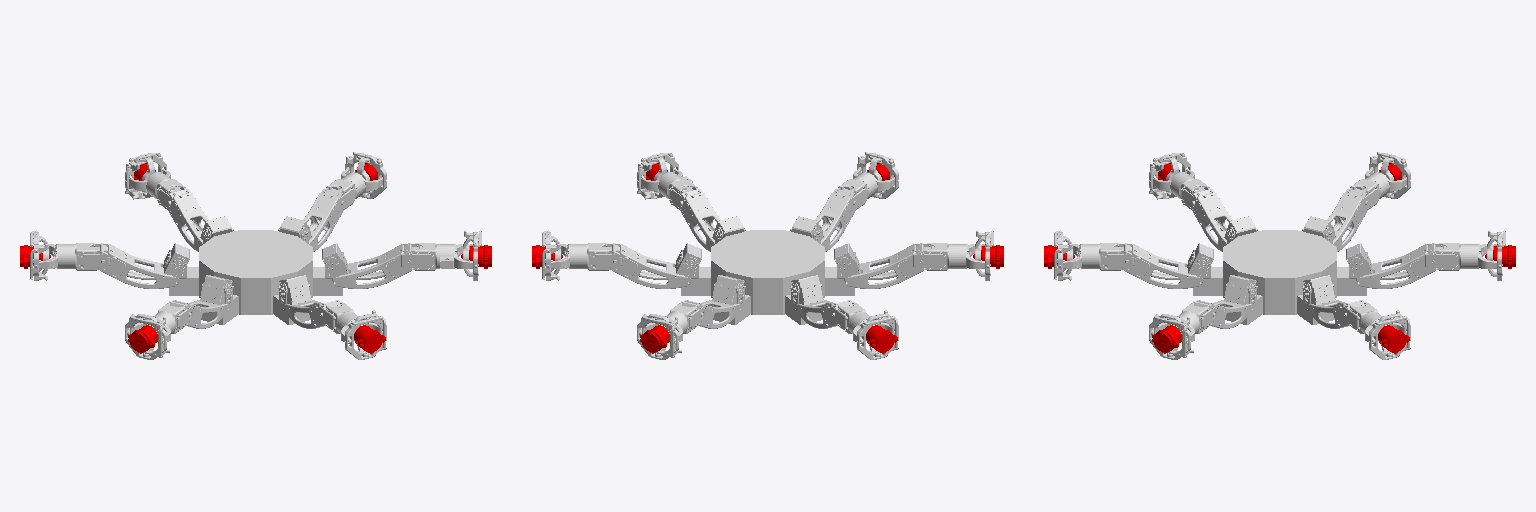
--- Facts derived from the render (not from the file) ---
The picture shows the robot from 3 angles, left to right: view 1: azimuth 30°, elevation 25°; view 2: azimuth 150°, elevation 25°; view 3: azimuth 270°, elevation 25°; orthographic projection.
Robot: magneto — 49 links, 48 joints (36 revolute, 3 continuous, 3 prismatic, 6 fixed); root link world; default pose: every joint at zero.
Links seen in each view (by area): view 1: base_link, CL_femur_link, AR_femur_link, BL_femur_link, AL_femur_link, AR_tibia_link, CL_tibia_link, CR_femur_link, BR_femur_link, AL_tibia_link, BL_tibia_link, BR_tibia_link (+7 smaller); view 2: base_link, AL_femur_link, CR_femur_link, AR_femur_link, BR_femur_link, CR_tibia_link, AL_tibia_link, BL_femur_link, CL_femur_link, AR_tibia_link, BR_tibia_link, CL_tibia_link (+7 smaller); view 3: base_link, BR_femur_link, BL_femur_link, CR_femur_link, CL_femur_link, BL_tibia_link, BR_tibia_link, AR_femur_link, AL_femur_link, CL_tibia_link, CR_tibia_link, AL_tibia_link (+7 smaller).
Boxes of the visible links, <box> form: base_link: <box>169,230,342,324</box>; CL_femur_link: <box>98,243,189,288</box>; AR_femur_link: <box>322,243,413,288</box>; BL_femur_link: <box>167,189,231,251</box>; AL_femur_link: <box>279,189,343,251</box>; AR_tibia_link: <box>401,243,478,270</box>; CL_tibia_link: <box>33,243,109,271</box>; CR_femur_link: <box>169,275,232,328</box>; BR_femur_link: <box>279,275,342,328</box>; AL_tibia_link: <box>322,167,382,211</box>; BL_tibia_link: <box>129,169,189,210</box>; BR_tibia_link: <box>319,300,382,343</box>; base_link: <box>681,230,854,324</box>; AL_femur_link: <box>610,243,701,288</box>; CR_femur_link: <box>834,243,925,288</box>; AR_femur_link: <box>679,189,744,251</box>; BR_femur_link: <box>792,189,855,251</box>; CR_tibia_link: <box>913,243,990,270</box>; AL_tibia_link: <box>545,243,621,271</box>; BL_femur_link: <box>681,275,744,328</box>; CL_femur_link: <box>791,275,854,328</box>; AR_tibia_link: <box>641,169,701,210</box>; BR_tibia_link: <box>834,167,894,211</box>; CL_tibia_link: <box>831,300,894,343</box>; base_link: <box>1193,230,1366,324</box>; BR_femur_link: <box>1122,243,1213,288</box>; BL_femur_link: <box>1346,243,1437,288</box>; CR_femur_link: <box>1191,189,1255,251</box>; CL_femur_link: <box>1304,189,1367,251</box>; BL_tibia_link: <box>1425,243,1502,270</box>; BR_tibia_link: <box>1057,243,1133,271</box>; AR_femur_link: <box>1193,275,1256,328</box>; AL_femur_link: <box>1303,275,1366,328</box>; CL_tibia_link: <box>1346,167,1406,211</box>; CR_tibia_link: <box>1153,169,1213,210</box>; AL_tibia_link: <box>1343,300,1406,343</box>.
Size in the robot's own frame: 0.8302 by 0.926 by 0.122 metres.
Meshes: 8 distinct files referenced, 37 mesh visuals loaded (8 binary STL).

The robot description file, URDF, robot "magneto":
<?xml version="1.0" encoding="utf-8"?>
<!-- =================================================================================== -->
<!-- |    This document was autogenerated by xacro from magneto_2_bones.xacro          | -->
<!-- |    EDITING THIS FILE BY HAND IS NOT RECOMMENDED                                 | -->
<!-- =================================================================================== -->
<robot name="magneto">
<!-- Setup material colours for viewing in RViz -->
<material name="white">
  <color rgba="1 1 1 1"/>
</material>
<material name="blue">
  <color rgba="0 0 1 1"/>
</material>
<material name="green">
  <color rgba="0 1 0 1"/>
</material>
<material name="red">
  <color rgba="1 0 0 1"/>
</material>
<material name="black">
  <color rgba="0 0 0 0.9"/>
</material>
<material name="darkgrey">
  <color rgba="0.9 0.9 0.9 1"/>
</material>
<material name="midgrey">
  <color rgba="0.9 0.9 0.9 1"/>
</material>
<!-- =================================================================================== -->
<!-- |    virtual Joint (6 DoFs)                                                       | -->
<!-- =================================================================================== -->
<link name="world">
    <inertial>
      <origin xyz="0 0 0" rpy="0 0 0" />
      <mass value="0.00000001" />
      <inertia ixx="0.00000001" ixy="0.00000001" ixz="0.00000001" iyy="0.00000001" iyz="0.00000001" izz="0.00000001" />
    </inertial>
  </link>

  <link name="basePosX">
    <inertial>
      <origin xyz="0 0 0" rpy="0 0 0" />
      <mass value="0.00000001" />
      <inertia ixx="0.00000001" ixy="0.00000001" ixz="0.00000001" iyy="0.00000001" iyz="0.00000001" izz="0.00000001" />
    </inertial>
  </link>
  <joint name="basePosX" type="prismatic">
    <origin xyz="0 0 0" rpy="0 0 0" />
    <parent link="world" />
    <child link="basePosX" />
    <axis xyz="1 0 0" />
    <limit effort="200.0" velocity="100.0" lower="-200." upper="200." />
  </joint>

  <link name="basePosY">
    <inertial>
      <origin xyz="0 0 0" rpy="0 0 0" />
      <mass value="0.00000001" />
      <inertia ixx="0.00000001" ixy="0.00000001" ixz="0.00000001" iyy="0.00000001" iyz="0.00000001" izz="0.00000001" />
    </inertial>
  </link>
  <joint name="basePosY" type="prismatic">
    <origin xyz="0 0 0" rpy="0 0 0" />
    <parent link="basePosX" />
    <child link="basePosY" />
    <axis xyz="0 1 0" />
    <limit effort="200.0" velocity="100.0" lower="-200." upper="200." />
  </joint>

  <link name="basePosZ">
    <inertial>
      <origin xyz="0 0 0" rpy="0 0 0" />
      <mass value="0.00000001" />
      <inertia ixx="0.00000001" ixy="0.00000001" ixz="0.00000001" iyy="0.00000001" iyz="0.00000001" izz="0.00000001" />
    </inertial>
  </link>
  <joint name="basePosZ" type="prismatic">
    <origin xyz="0 0 0" rpy="0 0 0" />
    <parent link="basePosY" />
    <child link="basePosZ" />
    <axis xyz="0 0 1" />
    <limit effort="200.0" velocity="100.0" lower="-200." upper="200." />
  </joint>

  <link name="baseRotZ">
    <inertial>
      <origin xyz="0 0 0" rpy="0 0 0" />
      <mass value="0.00000001" />
      <inertia ixx="0.00000001" ixy="0.00000001" ixz="0.00000001" iyy="0.00000001" iyz="0.00000001" izz="0.00000001" />
    </inertial>
  </link>
  <joint name="baseRotZ" type="continuous">
    <origin xyz="0 0 0" rpy="0 0 0" />
    <parent link="basePosZ" />
    <child link="baseRotZ" />
    <axis xyz="0 0 1" />
  </joint>

  <link name="baseRotY">
    <inertial>
      <origin xyz="0 0 0" rpy="0 0 0" />
      <mass value="0.00000001" />
      <inertia ixx="0.00000001" ixy="0.00000001" ixz="0.00000001" iyy="0.00000001" iyz="0.00000001" izz="0.00000001" />
    </inertial>
  </link>
  <joint name="baseRotY" type="continuous">
    <origin xyz="0 0 0" rpy="0 0 0" />
    <parent link="baseRotZ" />
    <child link="baseRotY" />
    <axis xyz="0 1 0" />
  </joint>
  <!-- =================================================================================== -->
  <!-- =================================================================================== -->
  <link name="base_link">
    <inertial>
      <origin rpy="0 0 0" xyz="-0.2696E-03 0 33.3181E-03"/>
      <mass value="1.44521"/>
      <inertia ixx="0.0083421056972" ixy="-4.932e-08" ixz="-2.47500871e-05" iyy="0.0136724752281" iyz="2.37e-11" izz="0.0180888568473"/>
    </inertial>
    <visual>
      <geometry>
        <mesh filename="meshes//hexa_magneto_base_link.STL"/>
      </geometry>
      <origin rpy="0 0 0" xyz="0 0 0.015"/>
      <material name="midgrey"/>
    </visual>
    <collision>
      <geometry>
        <mesh filename="meshes//hexa_magneto_base_link.STL"/>
      </geometry>
      <origin rpy="0 0 0" xyz="0 0 0.015"/>
    </collision>
  </link>
    <joint name="_base_joint" type="continuous">
    <parent link="baseRotY"/>
    <child link="base_link"/>
    <origin rpy="0 0 0" xyz="0 0 0"/>
    <axis xyz="1 0 0" />
  </joint>
  <!--  (1) AR ================================================================================= -->
  <link name="AR_coxa_link">
    <inertial>
      <origin rpy="0.0            0.0            0.0" xyz="0.0            0.0            0.0"/>
      <mass value="0.05629"/>
      <inertia ixx="6.383417e-05" ixy="0.0" ixz="0.0" iyy="2.843519e-05" iyz="0.0" izz="4.305331e-05"/>
    </inertial>
    <visual>
      <geometry>
        <mesh filename="meshes//coxa_link.STL"/>
      </geometry>
      <origin rpy="0.0          0.0          0.0" xyz="0.0          0.0          0.0"/>
      <material name="darkgrey"/>
    </visual>
    <collision>
      <geometry>
        <mesh filename="meshes//coxa_link_collision.STL"/>
      </geometry>
      <origin rpy="0.0          0.0          0.0" xyz="0.0            0.0            0.0"/>
    </collision>
  </link>
  <joint name="AR_coxa_joint" type="revolute">
    <limit effort="100.0" lower="-2.355" upper="2.355" velocity="5"/>
    <child link="AR_coxa_link"/>
    <parent link="base_link"/>
    <axis xyz="0 1 0"/>
    <origin rpy="1.5708 0 -0.5236" xyz="0.1299 -0.075 0.05"/>
  </joint>
  <link name="AR_femur_link">
    <inertial>
      <origin rpy="0.0            0.0            0.0" xyz="0.0331            0.0            0.00057"/>
      <mass value="0.25695"/>
      <inertia ixx="0.00023448195" ixy="8.961282e-05" ixz="2.299328e-05" iyy="0.00105768013" iyz="-8.2212e-07" izz="0.00113717868"/>
    </inertial>
    <visual>
      <geometry>
        <mesh filename="meshes//femur_link.STL"/>
      </geometry>
      <origin rpy="3.14159          0.0          0.0" xyz="0.0          0.0          0.0"/>
      <material name="darkgrey"/>
    </visual>
    <collision>
      <geometry>
        <mesh filename="meshes//femur_link_collision.STL"/>
      </geometry>
      <origin rpy="-1.5708            0.0            0.0" xyz="0.0            0.0            0.0"/>
    </collision>
  </link>
  <joint name="AR_femur_joint" type="revolute">
    <limit effort="100.0" lower="-1.571" upper="2.355" velocity="5"/>
    <child link="AR_femur_link"/>
    <parent link="AR_coxa_link"/>
    <axis xyz="0 0 1"/>
    <origin rpy="0 0 0" xyz="0 0.0393 0"/>
  </joint>
  <link name="AR_tibia_link">
    <inertial>
      <origin rpy="0.0            0.0            0.0" xyz="0.04813            0.0            0.00063"/>
      <mass value="0.57311"/>
      <inertia ixx="0.00012691396" ixy="-2.13598e-06" ixz="1.580716e-05" iyy="0.00135132424" iyz="4.859e-08" izz="0.00131598196"/>
    </inertial>
    <visual>
      <geometry>
        <mesh filename="meshes//tibia_link_ft.STL"/>
      </geometry>
      <origin rpy="0.0          0.0          0.0" xyz="0.0          0.0          0.0"/>
      <material name="midgrey"/>
    </visual>
    <collision>
      <geometry>
        <mesh filename="meshes//tibia_link_ft.STL"/>
      </geometry>
      <origin rpy="0.0            0.0            0.0" xyz="0.0            0.0            0.0"/>
    </collision>
  </link>
  <joint name="AR_tibia_joint" type="revolute">
    <limit effort="100.0" lower="-2.355" upper="0.001" velocity="5"/>
    <child link="AR_tibia_link"/>
    <parent link="AR_femur_link"/>
    <axis xyz="0 0 1"/>
    <origin rpy="0.0 0 0.0" xyz="0.15 0 0"/>
  </joint>
  <link name="AR_foot_link_1">
    <inertial>
      <origin rpy="0 0 0" xyz="0.02E-03 2.88E-03 -4.39E-03"/>
      <mass value="0.03591"/>
      <inertia ixx="60131.00E-09" ixy="610.47E-09" ixz="387.97E-09" iyy="31108.13E-09" iyz="346.50E-09" izz="31112.38E-09"/>
    </inertial>
    <visual>
      <geometry>
        <mesh filename="meshes//foot_link_1.STL"/>
      </geometry>
      <origin rpy="0 0 0" xyz="0 0 0"/>
      <material name="midgrey"/>
    </visual>
    <collision>
      <geometry>
        <mesh filename="meshes//foot_link_1_collision.STL"/>
      </geometry>
      <origin rpy="0 0 0" xyz="0 0 0"/>
    </collision>
  </link>
  <joint name="AR_foot_joint_1" type="revolute">
    <parent link="AR_tibia_link"/>
    <axis xyz="0 0 1"/>
    <origin rpy="0 0 0" xyz="0.132 0 0"/>
    <limit effort="100.0" lower="-0.523599" upper="0.523599" velocity="5"/>
    <child link="AR_foot_link_1"/>
    <dynamics damping="0.2" friction="0.0"/>
  </joint>
  <link name="AR_foot_link_2">
    <inertial>
      <origin rpy="0 0 0" xyz="0.02E-03 2.88E-03 -4.39E-03"/>
      <mass value="0.02961"/>
      <inertia ixx="8786.61E-09" ixy="34.74E-09" ixz="7.47E-09" iyy="10893.41E-09" iyz="-95.83E-09" izz="17608.23E-09"/>
    </inertial>
    <visual>
      <geometry>
        <mesh filename="meshes//foot_link_2.STL"/>
      </geometry>
      <origin rpy="0 0 0" xyz="0 0 0"/>
      <material name="midgrey"/>
    </visual>
    <collision>
      <geometry>
        <mesh filename="meshes//foot_link_2_collision.STL"/>
      </geometry>
      <origin rpy="0 0 0" xyz="0 0 0"/>
    </collision>
  </link>
  <joint name="AR_foot_joint_2" type="revolute">
    <axis xyz="0 1 0"/>
    <limit effort="100.0" lower="-0.418879" upper="0.418879" velocity="5"/>
    <parent link="AR_foot_link_1"/>
    <child link="AR_foot_link_2"/>
    <origin rpy="0 0 0" xyz="0 0 0"/>
    <dynamics damping="0.2" friction="0.0"/>
  </joint>
  <link name="AR_foot_link_3">
    <inertial>
      <origin rpy="0 0 0" xyz="0.02E-03 2.88E-03 -4.39E-03"/>
      <mass value="0.32158"/>
      <inertia ixx="49836.99E-09" ixy="144.66E-09" ixz="-4031.72E-09" iyy="81967.91E-09" iyz="-678.12E-09" izz="69129.32E-09"/>
    </inertial>
    <visual>
      <geometry>
        <mesh filename="meshes//foot_link_3.STL"/>
      </geometry>
      <origin rpy="0 0 0" xyz="0 0 0"/>
      <material name="red"/>
    </visual>
    <collision>
      <geometry>
        <mesh filename="meshes//foot_link_3_collision.STL"/>
      </geometry>
      <origin rpy="0 0 0" xyz="0 0 0"/>
    </collision>
  </link>
  <joint name="AR_foot_joint_3" type="revolute">
    <axis xyz="1 0 0"/>
    <limit effort="100.0" lower="-2.07694" upper="2.07694" velocity="5"/>
    <parent link="AR_foot_link_2"/>
    <child link="AR_foot_link_3"/>
    <origin rpy="0 0 0" xyz="0 0 0"/>
    <dynamics damping="0.2" friction="0.0"/>
  </joint>
  <link name="AR_foot_link">
    <inertial>
      <origin rpy="0 0 0" xyz="0 0 0" />
      <mass value="0.000001" />
      <inertia ixx="1E-9" ixy="1E-9" ixz="1E-9" iyy="1E-9" iyz="1E-9" izz="1E-9" />
    </inertial>
  </link>
  <joint name="AR_foot_joint" type="fixed">
    <parent link="AR_foot_link_3"/>
    <child link="AR_foot_link"/>
    <origin rpy="0 -1.5708 0" xyz="0.031 0 0"/>
  </joint>
  <!--  (2) BR ================================================================================= -->
  <link name="BR_coxa_link">
    <inertial>
      <origin rpy="0.0            0.0            0.0" xyz="0.0            0.0            0.0"/>
      <mass value="0.05629"/>
      <inertia ixx="6.383417e-05" ixy="0.0" ixz="0.0" iyy="2.843519e-05" iyz="0.0" izz="4.305331e-05"/>
    </inertial>
    <visual>
      <geometry>
        <mesh filename="meshes//coxa_link.STL"/>
      </geometry>
      <origin rpy="0.0          0.0          0.0" xyz="0.0          0.0          0.0"/>
      <material name="darkgrey"/>
    </visual>
    <collision>
      <geometry>
        <mesh filename="meshes//coxa_link_collision.STL"/>
      </geometry>
      <origin rpy="0.0          0.0          0.0" xyz="0.0            0.0            0.0"/>
    </collision>
  </link>
  <joint name="BR_coxa_joint" type="revolute">
    <limit effort="100.0" lower="-2.355" upper="2.355" velocity="5"/>
    <child link="BR_coxa_link"/>
    <parent link="base_link"/>
    <axis xyz="0 1 0"/>
    <origin rpy="1.5708 0 -1.5708" xyz="-0.0 -0.15 0.05"/>
  </joint>
  <link name="BR_femur_link">
    <inertial>
      <origin rpy="0.0            0.0            0.0" xyz="0.0331            0.0            0.00057"/>
      <mass value="0.25695"/>
      <inertia ixx="0.00023448195" ixy="8.961282e-05" ixz="2.299328e-05" iyy="0.00105768013" iyz="-8.2212e-07" izz="0.00113717868"/>
    </inertial>
    <visual>
      <geometry>
        <mesh filename="meshes//femur_link.STL"/>
      </geometry>
      <origin rpy="3.14159          0.0          0.0" xyz="0.0          0.0          0.0"/>
      <material name="darkgrey"/>
    </visual>
    <collision>
      <geometry>
        <mesh filename="meshes//femur_link_collision.STL"/>
      </geometry>
      <origin rpy="-1.5708            0.0            0.0" xyz="0.0            0.0            0.0"/>
    </collision>
  </link>
  <joint name="BR_femur_joint" type="revolute">
    <limit effort="100.0" lower="-1.571" upper="2.355" velocity="5"/>
    <child link="BR_femur_link"/>
    <parent link="BR_coxa_link"/>
    <axis xyz="0 0 1"/>
    <origin rpy="0 0 0" xyz="0 0.0393 0"/>
  </joint>
  <link name="BR_tibia_link">
    <inertial>
      <origin rpy="0.0            0.0            0.0" xyz="0.0363            0.0            -0.00011"/>
      <mass value="0.45311"/>
      <inertia ixx="8.692014e-05" ixy="-1.44653e-06" ixz="-3.73592e-06" iyy="0.00067791971" iyz="1.1736e-07" izz="0.00064913972"/>
    </inertial>
    <visual>
      <geometry>
        <mesh filename="meshes//tibia_link_no_ft.STL"/>
      </geometry>
      <origin rpy="0.0          0.0          0.0" xyz="0.0          0.0          0.0"/>
      <material name="midgrey"/>
    </visual>
    <collision>
      <geometry>
        <mesh filename="meshes//tibia_link_no_ft.STL"/>
      </geometry>
      <origin rpy="0.0            0.0            0.0" xyz="0.0            0.0            0.0"/>
    </collision>
  </link>
  <joint name="BR_tibia_joint" type="revolute">
    <limit effort="100.0" lower="-2.355" upper="0.001" velocity="5"/>
    <child link="BR_tibia_link"/>
    <parent link="BR_femur_link"/>
    <axis xyz="0 0 1"/>
    <origin rpy="0.0 0 0.0" xyz="0.15 0 0"/>
  </joint>
  <link name="BR_foot_link_1">
    <inertial>
      <origin rpy="0 0 0" xyz="0.02E-03 2.88E-03 -4.39E-03"/>
      <mass value="0.03591"/>
      <inertia ixx="60131.00E-09" ixy="610.47E-09" ixz="387.97E-09" iyy="31108.13E-09" iyz="346.50E-09" izz="31112.38E-09"/>
    </inertial>
    <visual>
      <geometry>
        <mesh filename="meshes//foot_link_1.STL"/>
      </geometry>
      <origin rpy="0 0 0" xyz="0 0 0"/>
      <material name="midgrey"/>
    </visual>
    <collision>
      <geometry>
        <mesh filename="meshes//foot_link_1_collision.STL"/>
      </geometry>
      <origin rpy="0 0 0" xyz="0 0 0"/>
    </collision>
  </link>
  <joint name="BR_foot_joint_1" type="revolute">
    <parent link="BR_tibia_link"/>
    <axis xyz="0 0 1"/>
    <origin rpy="0 0 0" xyz="0.132 0 0"/>
    <limit effort="100.0" lower="-0.523599" upper="0.523599" velocity="5"/>
    <child link="BR_foot_link_1"/>
    <dynamics damping="0.2" friction="0.0"/>
  </joint>
  <link name="BR_foot_link_2">
    <inertial>
      <origin rpy="0 0 0" xyz="0.02E-03 2.88E-03 -4.39E-03"/>
      <mass value="0.02961"/>
      <inertia ixx="8786.61E-09" ixy="34.74E-09" ixz="7.47E-09" iyy="10893.41E-09" iyz="-95.83E-09" izz="17608.23E-09"/>
    </inertial>
    <visual>
      <geometry>
        <mesh filename="meshes//foot_link_2.STL"/>
      </geometry>
      <origin rpy="0 0 0" xyz="0 0 0"/>
      <material name="midgrey"/>
    </visual>
    <collision>
      <geometry>
        <mesh filename="meshes//foot_link_2_collision.STL"/>
      </geometry>
      <origin rpy="0 0 0" xyz="0 0 0"/>
    </collision>
  </link>
  <joint name="BR_foot_joint_2" type="revolute">
    <axis xyz="0 1 0"/>
    <limit effort="100.0" lower="-0.418879" upper="0.418879" velocity="5"/>
    <parent link="BR_foot_link_1"/>
    <child link="BR_foot_link_2"/>
    <origin rpy="0 0 0" xyz="0 0 0"/>
    <dynamics damping="0.2" friction="0.0"/>
  </joint>
  <link name="BR_foot_link_3">
    <inertial>
      <origin rpy="0 0 0" xyz="0.02E-03 2.88E-03 -4.39E-03"/>
      <mass value="0.32158"/>
      <inertia ixx="49836.99E-09" ixy="144.66E-09" ixz="-4031.72E-09" iyy="81967.91E-09" iyz="-678.12E-09" izz="69129.32E-09"/>
    </inertial>
    <visual>
      <geometry>
        <mesh filename="meshes//foot_link_3.STL"/>
      </geometry>
      <origin rpy="0 0 0" xyz="0 0 0"/>
      <material name="red"/>
    </visual>
    <collision>
      <geometry>
        <mesh filename="meshes//foot_link_3_collision.STL"/>
      </geometry>
      <origin rpy="0 0 0" xyz="0 0 0"/>
    </collision>
  </link>
  <joint name="BR_foot_joint_3" type="revolute">
    <axis xyz="1 0 0"/>
    <limit effort="100.0" lower="-2.07694" upper="2.07694" velocity="5"/>
    <parent link="BR_foot_link_2"/>
    <child link="BR_foot_link_3"/>
    <origin rpy="0 0 0" xyz="0 0 0"/>
    <dynamics damping="0.2" friction="0.0"/>
  </joint>  
  <link name="BR_foot_link">
    <inertial>
      <origin rpy="0 0 0" xyz="0 0 0" />
      <mass value="0.000001" />
      <inertia ixx="1E-9" ixy="1E-9" ixz="1E-9" iyy="1E-9" iyz="1E-9" izz="1E-9" />
    </inertial>
  </link>
  <joint name="BR_foot_joint" type="fixed">
    <parent link="BR_foot_link_3"/>
    <child link="BR_foot_link"/>
    <origin rpy="0 -1.5708 0" xyz="0.031 0 0"/>
  </joint>
  <!--  (3) CR ================================================================================= -->
  <link name="CR_coxa_link">
    <inertial>
      <origin rpy="0.0            0.0            0.0" xyz="0.0            0.0            0.0"/>
      <mass value="0.05629"/>
      <inertia ixx="6.383417e-05" ixy="0.0" ixz="0.0" iyy="2.843519e-05" iyz="0.0" izz="4.305331e-05"/>
    </inertial>
    <visual>
      <geometry>
        <mesh filename="meshes//coxa_link.STL"/>
      </geometry>
      <origin rpy="0.0          0.0          0.0" xyz="0.0          0.0          0.0"/>
      <material name="darkgrey"/>
    </visual>
    <collision>
      <geometry>
        <mesh filename="meshes//coxa_link_collision.STL"/>
      </geometry>
      <origin rpy="0.0          0.0          0.0" xyz="0.0            0.0            0.0"/>
    </collision>
  </link>
  <joint name="CR_coxa_joint" type="revolute">
    <limit effort="100.0" lower="-2.355" upper="2.355" velocity="5"/>
    <child link="CR_coxa_link"/>
    <parent link="base_link"/>
    <axis xyz="0 1 0"/>
    <origin rpy="1.5708 0 -2.6180" xyz="-0.1299 -0.075 0.05"/>
  </joint>
  <link name="CR_femur_link">
    <inertial>
      <origin rpy="0.0            0.0            0.0" xyz="0.0331            0.0            0.00057"/>
      <mass value="0.25695"/>
      <inertia ixx="0.00023448195" ixy="8.961282e-05" ixz="2.299328e-05" iyy="0.00105768013" iyz="-8.2212e-07" izz="0.00113717868"/>
    </inertial>
    <visual>
      <geometry>
        <mesh filename="meshes//femur_link.STL"/>
      </geometry>
      <origin rpy="3.14159          0.0          0.0" xyz="0.0          0.0          0.0"/>
      <material name="darkgrey"/>
    </visual>
    <collision>
      <geometry>
        <mesh filename="meshes//femur_link_collision.STL"/>
      </geometry>
      <origin rpy="-1.5708            0.0            0.0" xyz="0.0            0.0            0.0"/>
    </collision>
  </link>
  <joint name="CR_femur_joint" type="revolute">
    <limit effort="100.0" lower="-1.571" upper="2.355" velocity="5"/>
    <child link="CR_femur_link"/>
    <parent link="CR_coxa_link"/>
    <axis xyz="0 0 1"/>
    <origin rpy="0 0 0" xyz="0 0.0393 0"/>
  </joint>
  <link name="CR_tibia_link">
    <inertial>
      <origin rpy="0.0            0.0            0.0" xyz="0.0363            0.0            -0.00011"/>
      <mass value="0.45311"/>
      <inertia ixx="8.692014e-05" ixy="-1.44653e-06" ixz="-3.73592e-06" iyy="0.00067791971" iyz="1.1736e-07" izz="0.00064913972"/>
    </inertial>
    <visual>
      <geometry>
        <mesh filename="meshes//tibia_link_no_ft.STL"/>
      </geometry>
      <origin rpy="0.0          0.0          0.0" xyz="0.0          0.0          0.0"/>
      <material name="midgrey"/>
    </visual>
    <collision>
      <geometry>
        <mesh filename="meshes//tibia_link_no_ft.STL"/>
      </geometry>
      <origin rpy="0.0            0.0            0.0" xyz="0.0            0.0            0.0"/>
    </collision>
  </link>
  <joint name="CR_tibia_joint" type="revolute">
    <limit effort="100.0" lower="-2.355" upper="0.001" velocity="5"/>
    <child link="CR_tibia_link"/>
    <parent link="CR_femur_link"/>
    <axis xyz="0 0 1"/>
    <origin rpy="0.0 0 0.0" xyz="0.15 0 0"/>
  </joint>
  <link name="CR_foot_link_1">
    <inertial>
      <origin rpy="0 0 0" xyz="0.02E-03 2.88E-03 -4.39E-03"/>
      <mass value="0.03591"/>
      <inertia ixx="60131.00E-09" ixy="610.47E-09" ixz="387.97E-09" iyy="31108.13E-09" iyz="346.50E-09" izz="31112.38E-09"/>
    </inertial>
    <visual>
      <geometry>
        <mesh filename="meshes//foot_link_1.STL"/>
      </geometry>
      <origin rpy="0 0 0" xyz="0 0 0"/>
      <material name="midgrey"/>
    </visual>
    <collision>
      <geometry>
        <mesh filename="meshes//foot_link_1_collision.STL"/>
      </geometry>
      <origin rpy="0 0 0" xyz="0 0 0"/>
    </collision>
  </link>
  <joint name="CR_foot_joint_1" type="revolute">
    <parent link="CR_tibia_link"/>
    <axis xyz="0 0 1"/>
    <origin rpy="0 0 0" xyz="0.132 0 0"/>
    <limit effort="100.0" lower="-0.523599" upper="0.523599" velocity="5"/>
    <child link="CR_foot_link_1"/>
    <dynamics damping="0.2" friction="0.0"/>
  </joint>
  <link name="CR_foot_link_2">
    <inertial>
      <origin rpy="0 0 0" xyz="0.02E-03 2.88E-03 -4.39E-03"/>
      <mass value="0.02961"/>
      <inertia ixx="8786.61E-09" ixy="34.74E-09" ixz="7.47E-09" iyy="10893.41E-09" iyz="-95.83E-09" izz="17608.23E-09"/>
    </inertial>
    <visual>
      <geometry>
        <mesh filename="meshes//foot_link_2.STL"/>
      </geometry>
      <origin rpy="0 0 0" xyz="0 0 0"/>
      <material name="midgrey"/>
    </visual>
    <collision>
      <geometry>
        <mesh filename="meshes//foot_link_2_collision.STL"/>
      </geometry>
      <origin rpy="0 0 0" xyz="0 0 0"/>
    </collision>
  </link>
  <joint name="CR_foot_joint_2" type="revolute">
    <axis xyz="0 1 0"/>
    <limit effort="100.0" lower="-0.418879" upper="0.418879" velocity="5"/>
    <parent link="CR_foot_link_1"/>
    <child link="CR_foot_link_2"/>
    <origin rpy="0 0 0" xyz="0 0 0"/>
    <dynamics damping="0.2" friction="0.0"/>
  </joint>
  <link name="CR_foot_link_3">
    <inertial>
      <origin rpy="0 0 0" xyz="0.02E-03 2.88E-03 -4.39E-03"/>
      <mass value="0.32158"/>
      <inertia ixx="49836.99E-09" ixy="144.66E-09" ixz="-4031.72E-09" iyy="81967.91E-09" iyz="-678.12E-09" izz="69129.32E-09"/>
    </inertial>
    <visual>
      <geometry>
        <mesh filename="meshes//foot_link_3.STL"/>
      </geometry>
      <origin rpy="0 0 0" xyz="0 0 0"/>
      <material name="red"/>
    </visual>
    <collision>
      <geometry>
        <mesh filename="meshes//foot_link_3_collision.STL"/>
      </geometry>
      <origin rpy="0 0 0" xyz="0 0 0"/>
    </collision>
  </link>
  <joint name="CR_foot_joint_3" type="revolute">
    <axis xyz="1 0 0"/>
    <limit effort="100.0" lower="-2.07694" upper="2.07694" velocity="5"/>
    <parent link="CR_foot_link_2"/>
    <child link="CR_foot_link_3"/>
    <origin rpy="0 0 0" xyz="0 0 0"/>
    <dynamics damping="0.2" friction="0.0"/>
  </joint>  
  <link name="CR_foot_link">
    <inertial>
      <origin rpy="0 0 0" xyz="0 0 0" />
      <mass value="0.000001" />
      <inertia ixx="1E-9" ixy="1E-9" ixz="1E-9" iyy="1E-9" iyz="1E-9" izz="1E-9" />
    </inertial>
  </link>
  <joint name="CR_foot_joint" type="fixed">
    <parent link="CR_foot_link_3"/>
    <child link="CR_foot_link"/>
    <origin rpy="0 -1.5708 0" xyz="0.031 0 0"/>
  </joint>
    <!-- (4) CL =================================================================================== -->
  <link name="CL_coxa_link">
    <inertial>
      <origin rpy="0.0            0.0            0.0" xyz="0.0            0.0            0.0"/>
      <mass value="0.05629"/>
      <inertia ixx="6.383417e-05" ixy="0.0" ixz="0.0" iyy="2.843519e-05" iyz="0.0" izz="4.305331e-05"/>
    </inertial>
    <visual>
      <geometry>
        <mesh filename="meshes//coxa_link.STL"/>
      </geometry>
      <origin rpy="0.0          0.0          0.0" xyz="0.0          0.0          0.0"/>
      <material name="darkgrey"/>
    </visual>
    <collision>
      <geometry>
        <mesh filename="meshes//coxa_link_collision.STL"/>
      </geometry>
      <origin rpy="0.0          0.0          0.0" xyz="0.0            0.0            0.0"/>
    </collision>
  </link>
  <joint name="CL_coxa_joint" type="revolute">
    <limit effort="100.0" lower="-2.355" upper="2.355" velocity="5"/>
    <child link="CL_coxa_link"/>
    <parent link="base_link"/>
    <axis xyz="0 1 0"/>
    <origin rpy="1.5708 0 2.6180" xyz="-0.1299 0.075 0.05"/>
  </joint>
  <link name="CL_femur_link">
    <inertial>
      <origin rpy="0.0            0.0            0.0" xyz="0.0331            0.0            0.00057"/>
      <mass value="0.25695"/>
      <inertia ixx="0.00023448195" ixy="8.961282e-05" ixz="2.299328e-05" iyy="0.00105768013" iyz="-8.2212e-07" izz="0.00113717868"/>
    </inertial>
    <visual>
      <geometry>
        <mesh filename="meshes//femur_link.STL"/>
      </geometry>
      <origin rpy="3.14159          0.0          0.0" xyz="0.0          0.0          0.0"/>
      <material name="darkgrey"/>
    </visual>
    <collision>
      <geometry>
        <mesh filename="meshes//femur_link_collision.STL"/>
      </geometry>
      <origin rpy="-1.5708            0.0            0.0" xyz="0.0            0.0            0.0"/>
    </collision>
  </link>
  <joint name="CL_femur_joint" type="revolute">
    <limit effort="100.0" lower="-1.571" upper="2.355" velocity="5"/>
    <child link="CL_femur_link"/>
    <parent link="CL_coxa_link"/>
    <axis xyz="0 0 1"/>
    <origin rpy="0 0 0" xyz="0 0.0393 0"/>
  </joint>
  <link name="CL_tibia_link">
    <inertial>
      <origin rpy="0.0            0.0            0.0" xyz="0.0363            0.0            -0.00011"/>
      <mass value="0.45311"/>
      <inertia ixx="8.692014e-05" ixy="-1.44653e-06" ixz="-3.73592e-06" iyy="0.00067791971" iyz="1.1736e-07" izz="0.00064913972"/>
    </inertial>
    <visual>
      <geometry>
        <mesh filename="meshes//tibia_link_no_ft.STL"/>
      </geometry>
      <origin rpy="0.0          0.0          0.0" xyz="0.0          0.0          0.0"/>
      <material name="midgrey"/>
    </visual>
    <collision>
      <geometry>
        <mesh filename="meshes//tibia_link_no_ft.STL"/>
      </geometry>
      <origin rpy="0.0            0.0            0.0" xyz="0.0            0.0            0.0"/>
    </collision>
  </link>
  <joint name="CL_tibia_joint" type="revolute">
    <limit effort="100.0" lower="-2.355" upper="0.001" velocity="5"/>
    <child link="CL_tibia_link"/>
    <parent link="CL_femur_link"/>
    <axis xyz="0 0 1"/>
    <origin rpy="0.0 0 0.0" xyz="0.15 0 0"/>
  </joint>
  <link name="CL_foot_link_1">
    <inertial>
      <origin rpy="0 0 0" xyz="0.02E-03 2.88E-03 -4.39E-03"/>
      <mass value="0.03591"/>
      <inertia ixx="60131.00E-09" ixy="610.47E-09" ixz="387.97E-09" iyy="31108.13E-09" iyz="346.50E-09" izz="31112.38E-09"/>
    </inertial>
    <visual>
      <geometry>
        <mesh filename="meshes//foot_link_1.STL"/>
      </geometry>
      <origin rpy="0 0 0" xyz="0 0 0"/>
      <material name="midgrey"/>
    </visual>
    <collision>
      <geometry>
        <mesh filename="meshes//foot_link_1_collision.STL"/>
      </geometry>
      <origin rpy="0 0 0" xyz="0 0 0"/>
    </collision>
  </link>
  <joint name="CL_foot_joint_1" type="revolute">
    <parent link="CL_tibia_link"/>
    <axis xyz="0 0 1"/>
    <origin rpy="0 0 0" xyz="0.132 0 0"/>
    <limit effort="100.0" lower="-0.523599" upper="0.523599" velocity="5"/>
    <child link="CL_foot_link_1"/>
    <dynamics damping="0.2" friction="0.0"/>
  </joint>
  <link name="CL_foot_link_2">
    <inertial>
      <origin rpy="0 0 0" xyz="0.02E-03 2.88E-03 -4.39E-03"/>
      <mass value="0.02961"/>
      <inertia ixx="8786.61E-09" ixy="34.74E-09" ixz="7.47E-09" iyy="10893.41E-09" iyz="-95.83E-09" izz="17608.23E-09"/>
    </inertial>
    <visual>
      <geometry>
        <mesh filename="meshes//foot_link_2.STL"/>
      </geometry>
      <origin rpy="0 0 0" xyz="0 0 0"/>
      <material name="midgrey"/>
    </visual>
    <collision>
      <geometry>
        <mesh filename="meshes//foot_link_2_collision.STL"/>
      </geometry>
      <origin rpy="0 0 0" xyz="0 0 0"/>
    </collision>
  </link>
  <joint name="CL_foot_joint_2" type="revolute">
    <axis xyz="0 1 0"/>
    <limit effort="100.0" lower="-0.418879" upper="0.418879" velocity="5"/>
    <parent link="CL_foot_link_1"/>
    <child link="CL_foot_link_2"/>
    <origin rpy="0 0 0" xyz="0 0 0"/>
    <dynamics damping="0.2" friction="0.0"/>
  </joint>
  <link name="CL_foot_link_3">
    <inertial>
      <origin rpy="0 0 0" xyz="0.02E-03 2.88E-03 -4.39E-03"/>
      <mass value="0.32158"/>
      <inertia ixx="49836.99E-09" ixy="144.66E-09" ixz="-4031.72E-09" iyy="81967.91E-09" iyz="-678.12E-09" izz="69129.32E-09"/>
    </inertial>
    <visual>
      <geometry>
        <mesh filename="meshes//foot_link_3.STL"/>
      </geometry>
      <origin rpy="0 0 0" xyz="0 0 0"/>
      <material name="red"/>
    </visual>
    <collision>
      <geometry>
        <mesh filename="meshes//foot_link_3_collision.STL"/>
      </geometry>
      <origin rpy="0 0 0" xyz="0 0 0"/>
    </collision>
  </link>
  <joint name="CL_foot_joint_3" type="revolute">
    <axis xyz="1 0 0"/>
    <limit effort="100.0" lower="-2.07694" upper="2.07694" velocity="5"/>
    <parent link="CL_foot_link_2"/>
    <child link="CL_foot_link_3"/>
    <origin rpy="0 0 0" xyz="0 0 0"/>
    <dynamics damping="0.2" friction="0.0"/>
  </joint>
  <link name="CL_foot_link">
    <inertial>
      <origin rpy="0 0 0" xyz="0 0 0" />
      <mass value="0.000001" />
      <inertia ixx="1E-9" ixy="1E-9" ixz="1E-9" iyy="1E-9" iyz="1E-9" izz="1E-9" />
    </inertial>
  </link>
  <joint name="CL_foot_joint" type="fixed">
    <parent link="CL_foot_link_3"/>
    <child link="CL_foot_link"/>
    <origin rpy="0 -1.5708 0" xyz="0.031 0 0"/>
  </joint>
  <!-- (5) BL =================================================================================== -->
  <link name="BL_coxa_link">
    <inertial>
      <origin rpy="0.0            0.0            0.0" xyz="0.0            0.0            0.0"/>
      <mass value="0.05629"/>
      <inertia ixx="6.383417e-05" ixy="0.0" ixz="0.0" iyy="2.843519e-05" iyz="0.0" izz="4.305331e-05"/>
    </inertial>
    <visual>
      <geometry>
        <mesh filename="meshes//coxa_link.STL"/>
      </geometry>
      <origin rpy="0.0          0.0          0.0" xyz="0.0          0.0          0.0"/>
      <material name="darkgrey"/>
    </visual>
    <collision>
      <geometry>
        <mesh filename="meshes//coxa_link_collision.STL"/>
      </geometry>
      <origin rpy="0.0          0.0          0.0" xyz="0.0            0.0            0.0"/>
    </collision>
  </link>
  <joint name="BL_coxa_joint" type="revolute">
    <limit effort="100.0" lower="-2.355" upper="2.355" velocity="5"/>
    <child link="BL_coxa_link"/>
    <parent link="base_link"/>
    <axis xyz="0 1 0"/>
    <origin rpy="1.5708 0 1.5708" xyz="0.0 0.15 0.05"/>
  </joint>
  <link name="BL_femur_link">
    <inertial>
      <origin rpy="0.0            0.0            0.0" xyz="0.0331            0.0            0.00057"/>
      <mass value="0.25695"/>
      <inertia ixx="0.00023448195" ixy="8.961282e-05" ixz="2.299328e-05" iyy="0.00105768013" iyz="-8.2212e-07" izz="0.00113717868"/>
    </inertial>
    <visual>
      <geometry>
        <mesh filename="meshes//femur_link.STL"/>
      </geometry>
      <origin rpy="3.14159          0.0          0.0" xyz="0.0          0.0          0.0"/>
      <material name="darkgrey"/>
    </visual>
    <collision>
      <geometry>
        <mesh filename="meshes//femur_link_collision.STL"/>
      </geometry>
      <origin rpy="-1.5708            0.0            0.0" xyz="0.0            0.0            0.0"/>
    </collision>
  </link>
  <joint name="BL_femur_joint" type="revolute">
    <limit effort="100.0" lower="-1.571" upper="2.355" velocity="5"/>
    <child link="BL_femur_link"/>
    <parent link="BL_coxa_link"/>
    <axis xyz="0 0 1"/>
    <origin rpy="0 0 0" xyz="0 0.0393 0"/>
  </joint>
  <link name="BL_tibia_link">
    <inertial>
      <origin rpy="0.0            0.0            0.0" xyz="0.0363            0.0            -0.00011"/>
      <mass value="0.45311"/>
      <inertia ixx="8.692014e-05" ixy="-1.44653e-06" ixz="-3.73592e-06" iyy="0.00067791971" iyz="1.1736e-07" izz="0.00064913972"/>
    </inertial>
    <visual>
      <geometry>
        <mesh filename="meshes//tibia_link_no_ft.STL"/>
      </geometry>
      <origin rpy="0.0          0.0          0.0" xyz="0.0          0.0          0.0"/>
      <material name="midgrey"/>
    </visual>
    <collision>
      <geometry>
        <mesh filename="meshes//tibia_link_no_ft.STL"/>
      </geometry>
      <origin rpy="0.0            0.0            0.0" xyz="0.0            0.0            0.0"/>
    </collision>
  </link>
  <joint name="BL_tibia_joint" type="revolute">
    <limit effort="100.0" lower="-2.355" upper="0.001" velocity="5"/>
    <child link="BL_tibia_link"/>
    <parent link="BL_femur_link"/>
    <axis xyz="0 0 1"/>
    <origin rpy="0.0 0 0.0" xyz="0.15 0 0"/>
  </joint>
  <link name="BL_foot_link_1">
    <inertial>
      <origin rpy="0 0 0" xyz="0.02E-03 2.88E-03 -4.39E-03"/>
      <mass value="0.03591"/>
      <inertia ixx="60131.00E-09" ixy="610.47E-09" ixz="387.97E-09" iyy="31108.13E-09" iyz="346.50E-09" izz="31112.38E-09"/>
    </inertial>
    <visual>
      <geometry>
        <mesh filename="meshes//foot_link_1.STL"/>
      </geometry>
      <origin rpy="0 0 0" xyz="0 0 0"/>
      <material name="midgrey"/>
    </visual>
    <collision>
      <geometry>
        <mesh filename="meshes//foot_link_1_collision.STL"/>
      </geometry>
      <origin rpy="0 0 0" xyz="0 0 0"/>
    </collision>
  </link>
  <joint name="BL_foot_joint_1" type="revolute">
    <parent link="BL_tibia_link"/>
    <axis xyz="0 0 1"/>
    <origin rpy="0 0 0" xyz="0.132 0 0"/>
    <limit effort="100.0" lower="-0.523599" upper="0.523599" velocity="5"/>
    <child link="BL_foot_link_1"/>
    <dynamics damping="0.2" friction="0.0"/>
  </joint>
  <link name="BL_foot_link_2">
    <inertial>
      <origin rpy="0 0 0" xyz="0.02E-03 2.88E-03 -4.39E-03"/>
      <mass value="0.02961"/>
      <inertia ixx="8786.61E-09" ixy="34.74E-09" ixz="7.47E-09" iyy="10893.41E-09" iyz="-95.83E-09" izz="17608.23E-09"/>
    </inertial>
    <visual>
      <geometry>
        <mesh filename="meshes//foot_link_2.STL"/>
      </geometry>
      <origin rpy="0 0 0" xyz="0 0 0"/>
      <material name="midgrey"/>
    </visual>
    <collision>
      <geometry>
        <mesh filename="meshes//foot_link_2_collision.STL"/>
      </geometry>
      <origin rpy="0 0 0" xyz="0 0 0"/>
    </collision>
  </link>
  <joint name="BL_foot_joint_2" type="revolute">
    <axis xyz="0 1 0"/>
    <limit effort="100.0" lower="-0.418879" upper="0.418879" velocity="5"/>
    <parent link="BL_foot_link_1"/>
    <child link="BL_foot_link_2"/>
    <origin rpy="0 0 0" xyz="0 0 0"/>
    <dynamics damping="0.2" friction="0.0"/>
  </joint>
  <link name="BL_foot_link_3">
    <inertial>
      <origin rpy="0 0 0" xyz="0.02E-03 2.88E-03 -4.39E-03"/>
      <mass value="0.32158"/>
      <inertia ixx="49836.99E-09" ixy="144.66E-09" ixz="-4031.72E-09" iyy="81967.91E-09" iyz="-678.12E-09" izz="69129.32E-09"/>
    </inertial>
    <visual>
      <geometry>
        <mesh filename="meshes//foot_link_3.STL"/>
      </geometry>
      <origin rpy="0 0 0" xyz="0 0 0"/>
      <material name="red"/>
    </visual>
    <collision>
      <geometry>
        <mesh filename="meshes//foot_link_3_collision.STL"/>
      </geometry>
      <origin rpy="0 0 0" xyz="0 0 0"/>
    </collision>
  </link>
  <joint name="BL_foot_joint_3" type="revolute">
    <axis xyz="1 0 0"/>
    <limit effort="100.0" lower="-2.07694" upper="2.07694" velocity="5"/>
    <parent link="BL_foot_link_2"/>
    <child link="BL_foot_link_3"/>
    <origin rpy="0 0 0" xyz="0 0 0"/>
    <dynamics damping="0.2" friction="0.0"/>
  </joint>
  <link name="BL_foot_link">
    <inertial>
      <origin rpy="0 0 0" xyz="0 0 0" />
      <mass value="0.000001" />
      <inertia ixx="1E-9" ixy="1E-9" ixz="1E-9" iyy="1E-9" iyz="1E-9" izz="1E-9" />
    </inertial>
  </link>
  <joint name="BL_foot_joint" type="fixed">
    <parent link="BL_foot_link_3"/>
    <child link="BL_foot_link"/>
    <origin rpy="0 -1.5708 0" xyz="0.031 0 0"/>
  </joint>
  <!-- (6) AL =================================================================================== -->
  <link name="AL_coxa_link">
    <inertial>
      <origin rpy="0.0            0.0            0.0" xyz="0.0            0.0            0.0"/>
      <mass value="0.05629"/>
      <inertia ixx="6.383417e-05" ixy="0.0" ixz="0.0" iyy="2.843519e-05" iyz="0.0" izz="4.305331e-05"/>
    </inertial>
    <visual>
      <geometry>
        <mesh filename="meshes//coxa_link.STL"/>
      </geometry>
      <origin rpy="0.0          0.0          0.0" xyz="0.0          0.0          0.0"/>
      <material name="darkgrey"/>
    </visual>
    <collision>
      <geometry>
        <mesh filename="meshes//coxa_link_collision.STL"/>
      </geometry>
      <origin rpy="0.0          0.0          0.0" xyz="0.0            0.0            0.0"/>
    </collision>
  </link>
  <joint name="AL_coxa_joint" type="revolute">
    <limit effort="100.0" lower="-2.355" upper="2.355" velocity="5"/>
    <child link="AL_coxa_link"/>
    <parent link="base_link"/>
    <axis xyz="0 1 0"/>
    <origin rpy="1.5708 0 0.5236" xyz="0.1299 0.075 0.05"/>
  </joint>
  <link name="AL_femur_link">
    <inertial>
      <origin rpy="0.0            0.0            0.0" xyz="0.0331            0.0            0.00057"/>
      <mass value="0.25695"/>
      <inertia ixx="0.00023448195" ixy="8.961282e-05" ixz="2.299328e-05" iyy="0.00105768013" iyz="-8.2212e-07" izz="0.00113717868"/>
    </inertial>
    <visual>
      <geometry>
        <mesh filename="meshes//femur_link.STL"/>
      </geometry>
      <origin rpy="3.14159          0.0          0.0" xyz="0.0          0.0          0.0"/>
      <material name="darkgrey"/>
    </visual>
    <collision>
      <geometry>
        <mesh filename="meshes//femur_link_collision.STL"/>
      </geometry>
      <origin rpy="-1.5708            0.0            0.0" xyz="0.0            0.0            0.0"/>
    </collision>
  </link>
  <joint name="AL_femur_joint" type="revolute">
    <limit effort="100.0" lower="-1.571" upper="2.355" velocity="5"/>
    <child link="AL_femur_link"/>
    <parent link="AL_coxa_link"/>
    <axis xyz="0 0 1"/>
    <origin rpy="0 0 0" xyz="0 0.0393 0"/>
  </joint>
  <link name="AL_tibia_link">
    <inertial>
      <origin rpy="0.0            0.0            0.0" xyz="0.0363            0.0            -0.00011"/>
      <mass value="0.45311"/>
      <inertia ixx="8.692014e-05" ixy="-1.44653e-06" ixz="-3.73592e-06" iyy="0.00067791971" iyz="1.1736e-07" izz="0.00064913972"/>
    </inertial>
    <visual>
      <geometry>
        <mesh filename="meshes//tibia_link_no_ft.STL"/>
      </geometry>
      <origin rpy="0.0          0.0          0.0" xyz="0.0          0.0          0.0"/>
      <material name="midgrey"/>
    </visual>
    <collision>
      <geometry>
        <mesh filename="meshes//tibia_link_no_ft.STL"/>
      </geometry>
      <origin rpy="0.0            0.0            0.0" xyz="0.0            0.0            0.0"/>
    </collision>
  </link>
  <joint name="AL_tibia_joint" type="revolute">
    <limit effort="100.0" lower="-2.355" upper="0.001" velocity="5"/>
    <child link="AL_tibia_link"/>
    <parent link="AL_femur_link"/>
    <axis xyz="0 0 1"/>
    <origin rpy="0.0 0 0.0" xyz="0.15 0 0"/>
  </joint>
  <link name="AL_foot_link_1">
    <inertial>
      <origin rpy="0 0 0" xyz="0.02E-03 2.88E-03 -4.39E-03"/>
      <mass value="0.03591"/>
      <inertia ixx="60131.00E-09" ixy="610.47E-09" ixz="387.97E-09" iyy="31108.13E-09" iyz="346.50E-09" izz="31112.38E-09"/>
    </inertial>
    <visual>
      <geometry>
        <mesh filename="meshes//foot_link_1.STL"/>
      </geometry>
      <origin rpy="0 0 0" xyz="0 0 0"/>
      <material name="midgrey"/>
    </visual>
    <collision>
      <geometry>
        <mesh filename="meshes//foot_link_1_collision.STL"/>
      </geometry>
      <origin rpy="0 0 0" xyz="0 0 0"/>
    </collision>
  </link>
  <joint name="AL_foot_joint_1" type="revolute">
    <parent link="AL_tibia_link"/>
    <axis xyz="0 0 1"/>
    <origin rpy="0 0 0" xyz="0.132 0 0"/>
    <limit effort="100.0" lower="-0.523599" upper="0.523599" velocity="5"/>
    <child link="AL_foot_link_1"/>
    <dynamics damping="0.2" friction="0.0"/>
  </joint>
  <link name="AL_foot_link_2">
    <inertial>
      <origin rpy="0 0 0" xyz="0.02E-03 2.88E-03 -4.39E-03"/>
      <mass value="0.02961"/>
      <inertia ixx="8786.61E-09" ixy="34.74E-09" ixz="7.47E-09" iyy="10893.41E-09" iyz="-95.83E-09" izz="17608.23E-09"/>
    </inertial>
    <visual>
      <geometry>
        <mesh filename="meshes//foot_link_2.STL"/>
      </geometry>
      <origin rpy="0 0 0" xyz="0 0 0"/>
      <material name="midgrey"/>
    </visual>
    <collision>
      <geometry>
        <mesh filename="meshes//foot_link_2_collision.STL"/>
      </geometry>
      <origin rpy="0 0 0" xyz="0 0 0"/>
    </collision>
  </link>
  <joint name="AL_foot_joint_2" type="revolute">
    <axis xyz="0 1 0"/>
    <limit effort="100.0" lower="-0.418879" upper="0.418879" velocity="5"/>
    <parent link="AL_foot_link_1"/>
    <child link="AL_foot_link_2"/>
    <origin rpy="0 0 0" xyz="0 0 0"/>
    <dynamics damping="0.2" friction="0.0"/>
  </joint>
  <link name="AL_foot_link_3">
    <inertial>
      <origin rpy="0 0 0" xyz="0.02E-03 2.88E-03 -4.39E-03"/>
      <mass value="0.32158"/>
      <inertia ixx="49836.99E-09" ixy="144.66E-09" ixz="-4031.72E-09" iyy="81967.91E-09" iyz="-678.12E-09" izz="69129.32E-09"/>
    </inertial>
    <visual>
      <geometry>
        <mesh filename="meshes//foot_link_3.STL"/>
      </geometry>
      <origin rpy="0 0 0" xyz="0 0 0"/>
      <material name="red"/>
    </visual>
    <collision>
      <geometry>
        <mesh filename="meshes//foot_link_3_collision.STL"/>
      </geometry>
      <origin rpy="0 0 0" xyz="0 0 0"/>
    </collision>
  </link>
  <joint name="AL_foot_joint_3" type="revolute">
    <axis xyz="1 0 0"/>
    <limit effort="100.0" lower="-2.07694" upper="2.07694" velocity="5"/>
    <parent link="AL_foot_link_2"/>
    <child link="AL_foot_link_3"/>
    <origin rpy="0 0 0" xyz="0 0 0"/>
    <dynamics damping="0.2" friction="0.0"/>
  </joint>
  <!-- =================================================================================== -->
  <link name="AL_foot_link">
    <inertial>
      <origin rpy="0 0 0" xyz="0 0 0" />
      <mass value="0.000001" />
      <inertia ixx="1E-9" ixy="1E-9" ixz="1E-9" iyy="1E-9" iyz="1E-9" izz="1E-9" />
    </inertial>
  </link>
  <joint name="AL_foot_joint" type="fixed">
    <parent link="AL_foot_link_3"/>
    <child link="AL_foot_link"/>
    <origin rpy="0 -1.5708 0" xyz="0.031 0 0"/>
  </joint>
  <!-- =================================================================================== -->
</robot>
